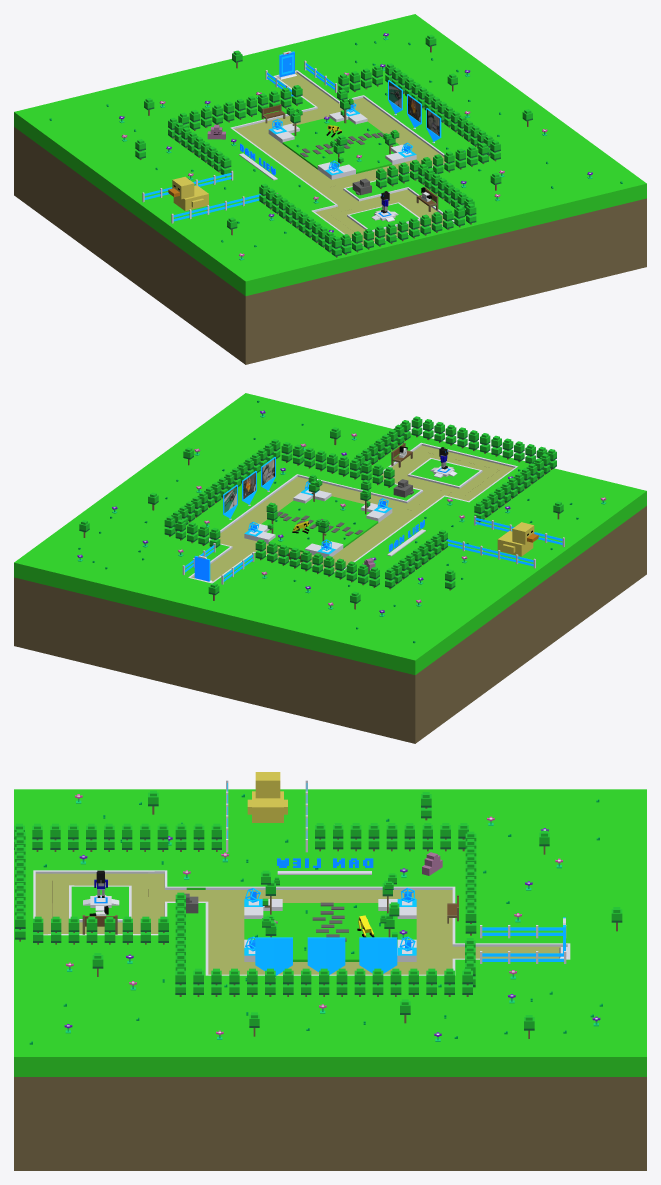
Rendered from portfolio1.2.glb.
3 renders of one model, top to bottom at view 1: azimuth 30°, elevation 25°; view 2: azimuth 150°, elevation 25°; view 3: azimuth 270°, elevation 25°, orthographic. The views are drawn at different scales.
Visible parts, largest first — view 1: Ground, duck; view 2: Ground, duck; view 3: Ground, duck, Project 2, Project 1, Project 3, Name.
Part boxes in pixels (x1,y1,x2,y2): Ground: (14, 14, 646, 364); duck: (168, 176, 208, 210); Ground: (14, 393, 646, 743); duck: (497, 522, 538, 556); Ground: (14, 780, 646, 1170); duck: (247, 772, 287, 822); Project 2: (307, 937, 345, 974); Project 1: (359, 937, 397, 973); Project 3: (255, 937, 292, 975); Name: (277, 858, 373, 874).
Size of what is drawn, in the model's own units: 252 by 68.91 by 252.
Materials: 28 (3 with a texture image).
